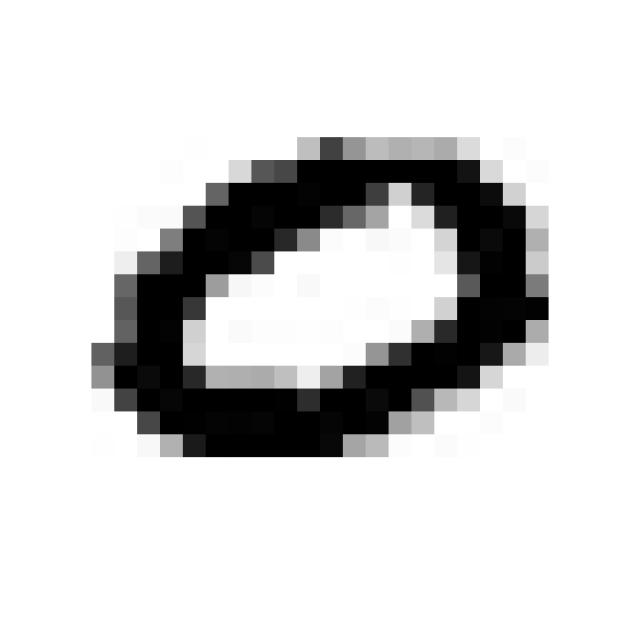5 -five-: (82, 123, 558, 471)
